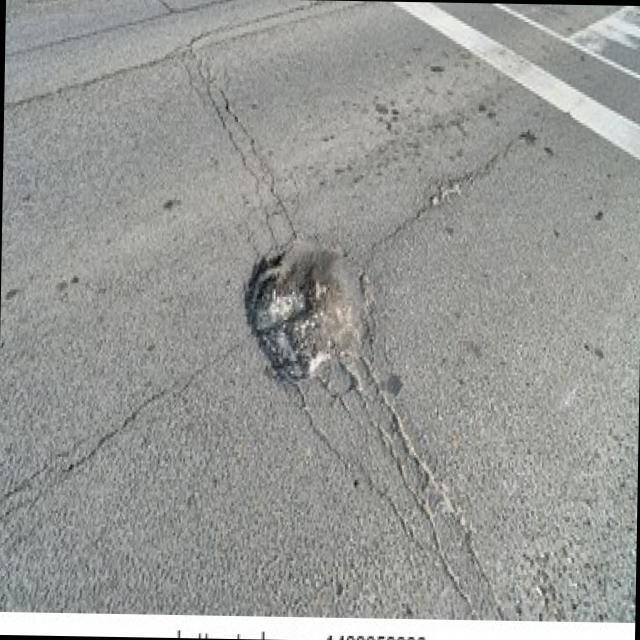Pothole: (243, 240, 370, 386)
